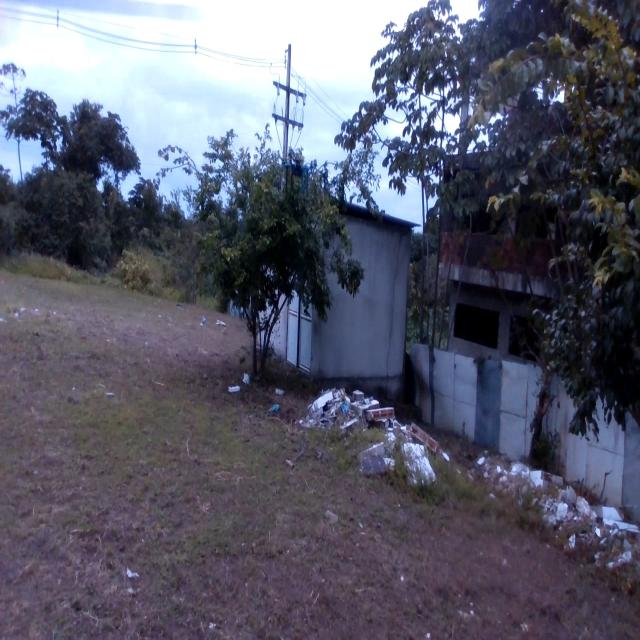-uav-: (272, 147, 325, 203)
